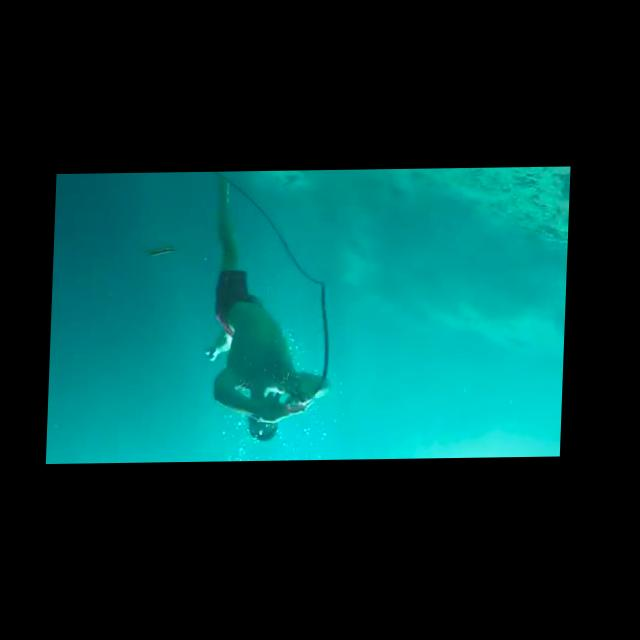human: (200, 171, 343, 448)
